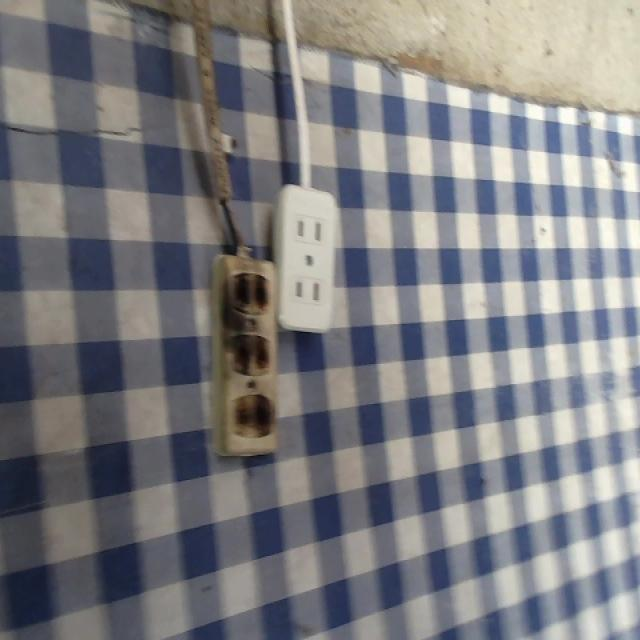-: (227, 330, 274, 390), (228, 394, 280, 442), (228, 266, 271, 318)
